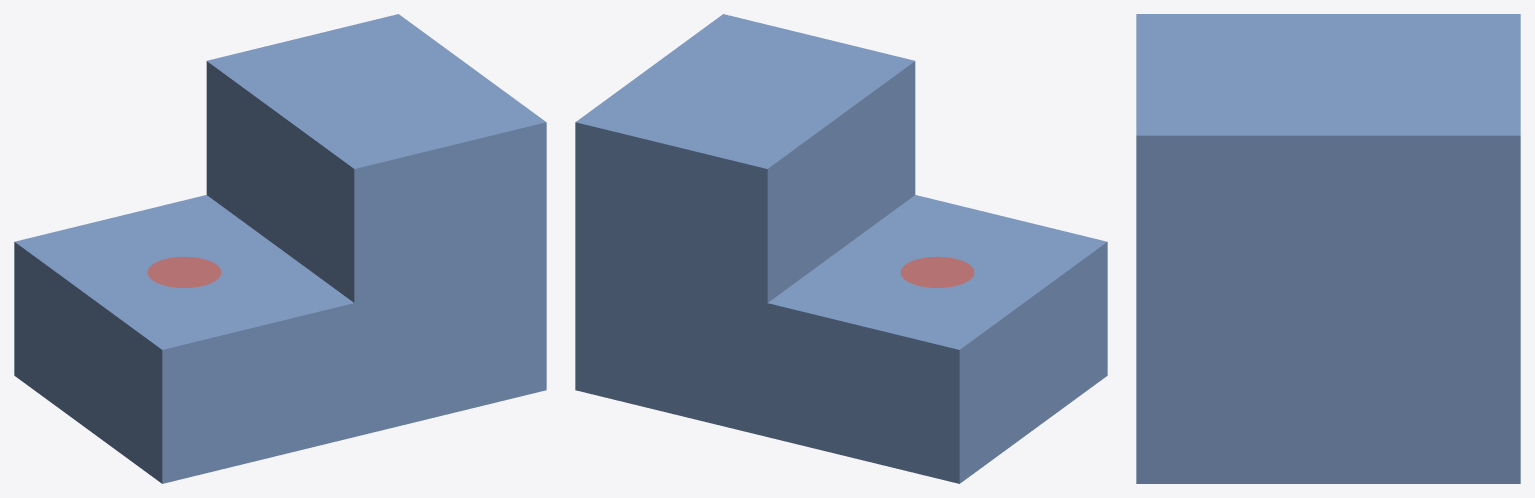
The model's file is step_03.glb.
3 renders of one model, left to right at view 1: azimuth 30°, elevation 25°; view 2: azimuth 150°, elevation 25°; view 3: azimuth 270°, elevation 25°, orthographic. The views are drawn at different scales.
Parts seen in each view (by area): view 1: part__step block, removed__step block; view 2: part__step block, removed__step block; view 3: part__step block.
Part boxes in pixels (x1,y1,x2,y2): part__step block: (14,14,546,483); removed__step block: (147,256,221,287); part__step block: (575,14,1107,483); removed__step block: (900,256,974,287); part__step block: (1136,14,1520,483).
Size of the model in its own units: 60 by 40 by 40.
